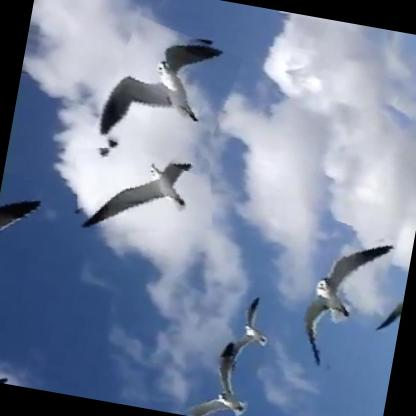bird: (95, 17, 241, 172), (66, 127, 222, 248), (294, 219, 395, 378), (180, 350, 256, 416), (220, 291, 281, 366), (165, 148, 166, 150)
